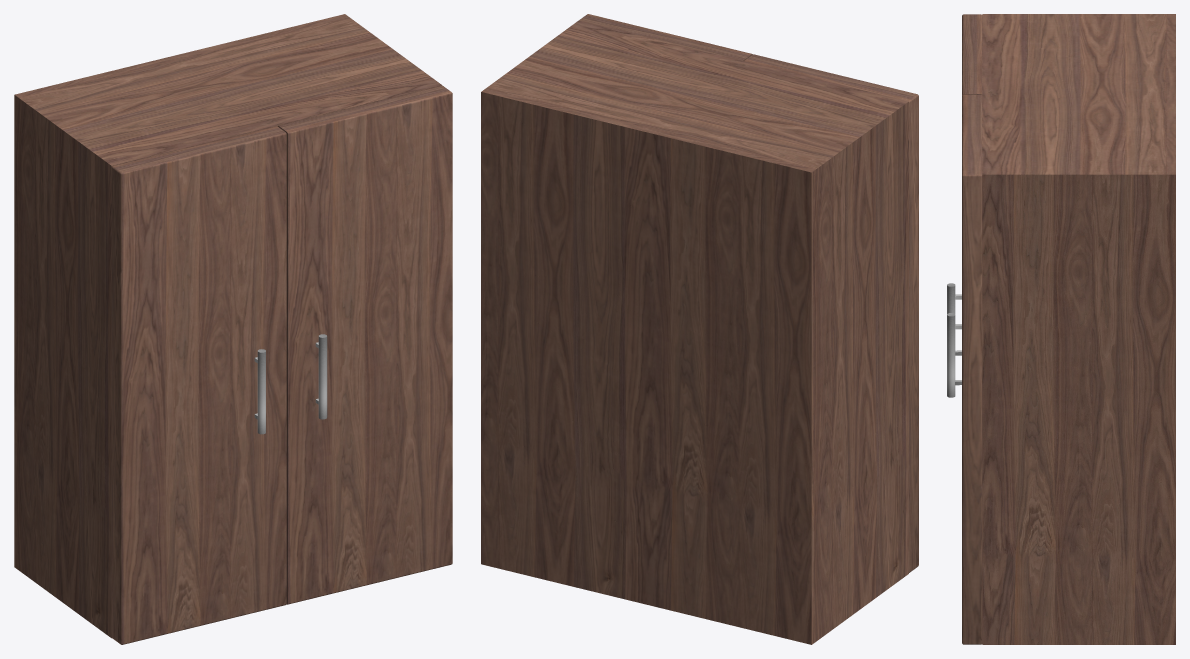
Rendered from chemical_cupboard.fbx.
3 views of the same model, side by side, from view 1: azimuth 30°, elevation 25°; view 2: azimuth 150°, elevation 25°; view 3: azimuth 270°, elevation 25° (orthographic).
Parts seen in each view (by area): view 1: cupboard door1, cupboard door 2, cupboardbody, handle2, handle; view 2: cupboardbody, cupboard door1, cupboard door 2; view 3: cupboardbody, cupboard door 2, cupboard door1, handle2, handle.
Boxes of the visible parts, left/top/right/bottom form: cupboard door1: left=111, top=126, right=286, bottom=644; cupboard door 2: left=277, top=85, right=452, bottom=604; cupboardbody: left=14, top=14, right=442, bottom=638; handle2: left=315, top=334, right=327, bottom=419; handle: left=254, top=349, right=265, bottom=434; cupboardbody: left=481, top=21, right=908, bottom=644; cupboard door1: left=744, top=54, right=918, bottom=572; cupboard door 2: left=578, top=14, right=752, bottom=60; cupboardbody: left=982, top=14, right=1175, bottom=644; cupboard door 2: left=962, top=94, right=982, bottom=644; cupboard door1: left=962, top=14, right=982, bottom=95; handle2: left=947, top=313, right=961, bottom=397; handle: left=947, top=283, right=961, bottom=355.
Size of the model in its own units: 189 by 257 by 113.
